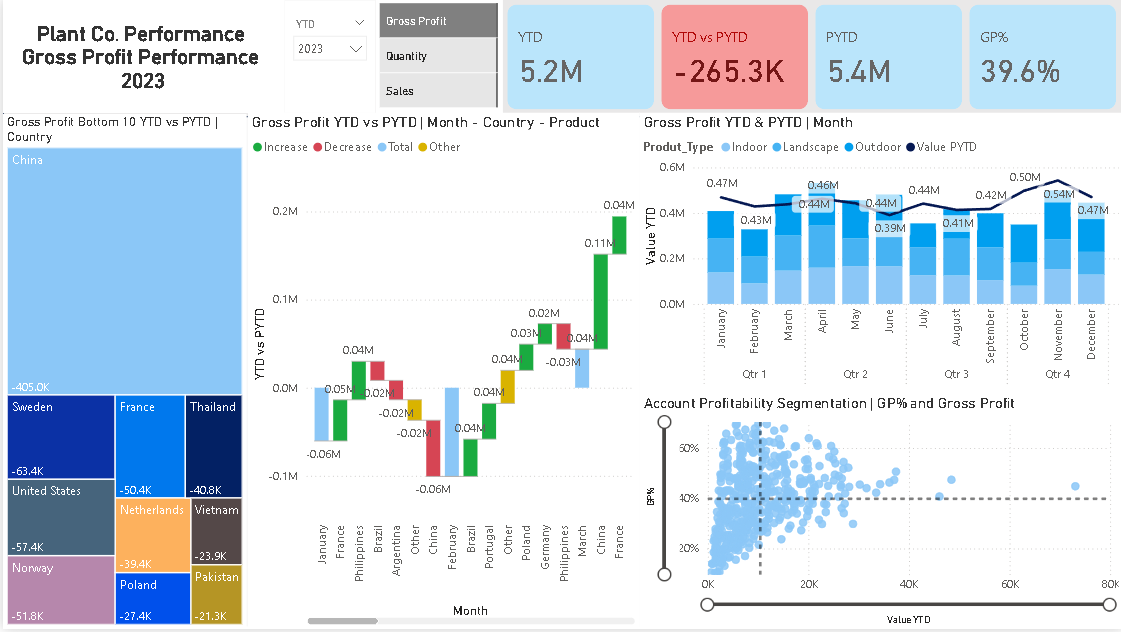

Layout of this report page (visuals, bound fields, positions):
{"tool":"powerbi","page":{"name":"Performance Report","canvas":[1280,720],"ordinal":0},"visuals":[{"type":"cardVisual","fields":{"Data":["_Measures.S_YTD","_Measures.YTD vs PYTD","_Measures.S_PYTD","_Measures.GP%"]},"box":[571.4,1.4,708.6,130],"z":0},{"type":"advancedSlicerVisual","fields":{"Values":["Slicer_Values.Values"]},"box":[425.7,0,145.7,130],"z":1000},{"type":"slicer","fields":{"Values":["Dim_Date.Date.Variation.Date Hierarchy.Year"]},"box":[321.4,1.4,104.3,128.6],"z":2000},{"type":"treemap","fields":{"Group":["Dim_Account.country"],"Values":["_Measures.YTD vs PYTD"]},"box":[0,131.4,278.6,588.6],"z":3000},{"type":"waterfallChart","fields":{"Category":["Dim_Date.Date.Variation.Date Hierarchy.Month"],"Breakdown":["Dim_Account.country"],"Y":["_Measures.YTD vs PYTD"]},"box":[280,130,447.1,590],"z":4000},{"type":"lineStackedColumnComboChart","fields":{"Y":["_Measures.S_YTD"],"Y2":["_Measures.S_PYTD"],"Category":["Dim_Date.Date.Variation.Date Hierarchy.Quarter","Dim_Date.Date.Variation.Date Hierarchy.Month"],"Series":["Dim_Product.Produt_Type"]},"box":[727.1,130,552.9,321.4],"z":5000},{"type":"scatterChart","fields":{"Y":["_Measures.GP%"],"X":["_Measures.S_YTD"],"Category":["Dim_Account.Account"]},"box":[727.1,451.4,552.9,268.6],"z":6000},{"type":"card","fields":{"Values":["_Measures._report_title"]},"box":[0,0,321.4,130],"z":6001}]}

Visuals, with their boxes in screenshot pixels (x1, y1, x2, y2), scaled from the page's 1280x720 canvas onto the 1121x632 screenshot:
cardVisual - _Measures.S_YTD x _Measures.YTD vs PYTD: x1=500, y1=1, x2=1120, y2=115
advancedSlicerVisual - Slicer_Values.Values: x1=373, y1=0, x2=500, y2=114
slicer - Dim_Date.Date.Variation.Date Hierarchy.Year: x1=281, y1=1, x2=373, y2=114
treemap - Dim_Account.country x _Measures.YTD vs PYTD: x1=0, y1=115, x2=244, y2=631
waterfallChart - Dim_Date.Date.Variation.Date Hierarchy.Month x Dim_Account.country: x1=245, y1=114, x2=637, y2=631
lineStackedColumnComboChart - _Measures.S_YTD x _Measures.S_PYTD: x1=637, y1=114, x2=1120, y2=396
scatterChart - _Measures.GP% x _Measures.S_YTD: x1=637, y1=396, x2=1120, y2=631
card - _Measures._report_title: x1=0, y1=0, x2=281, y2=114
